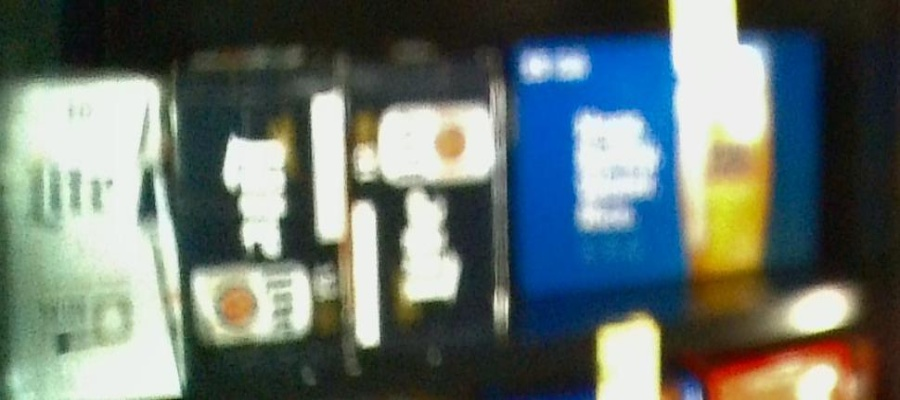bottle: (511, 34, 832, 289), (177, 58, 355, 372), (6, 75, 177, 398), (354, 55, 507, 344)
